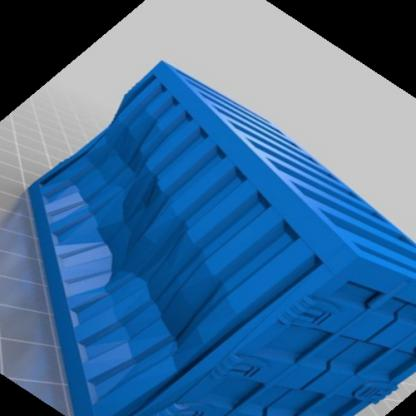Damage: (82, 118, 218, 349)
